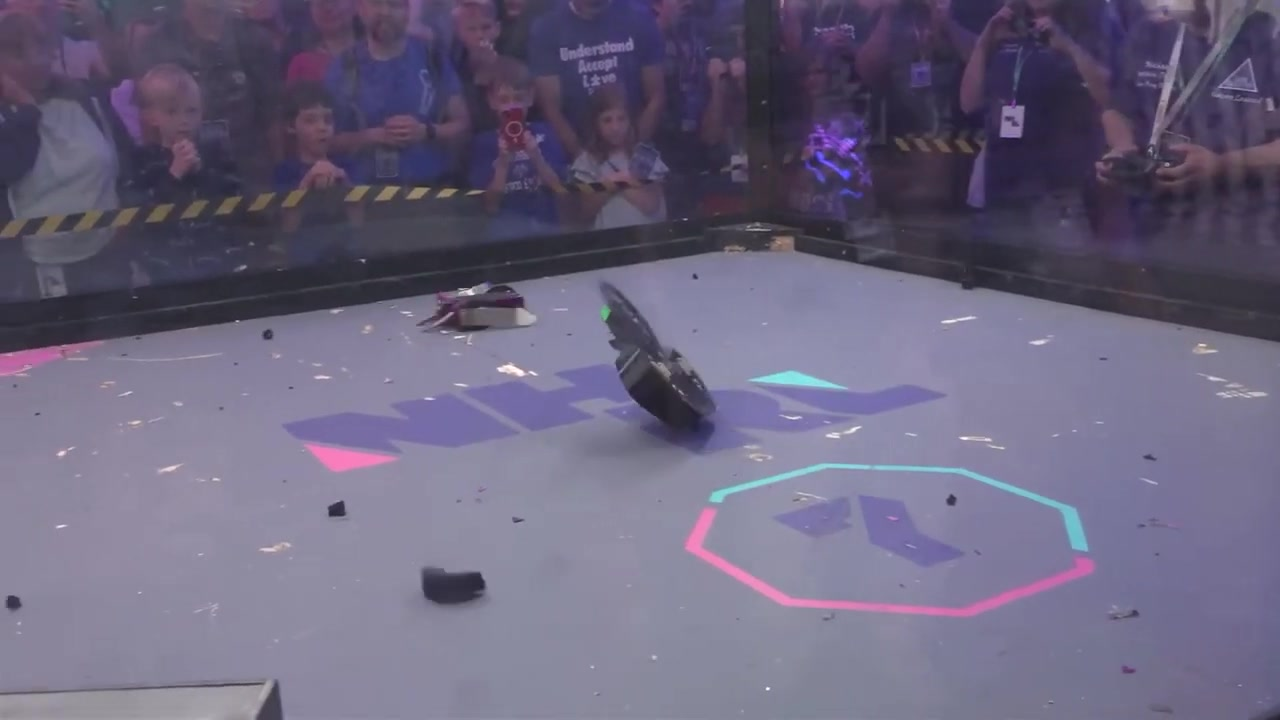combatbot: (595, 279, 719, 437), (417, 283, 537, 334)
debris: (418, 564, 486, 603), (1105, 604, 1142, 623), (326, 499, 345, 518), (8, 596, 19, 610), (262, 330, 273, 339)
housebot: (0, 679, 282, 720)
